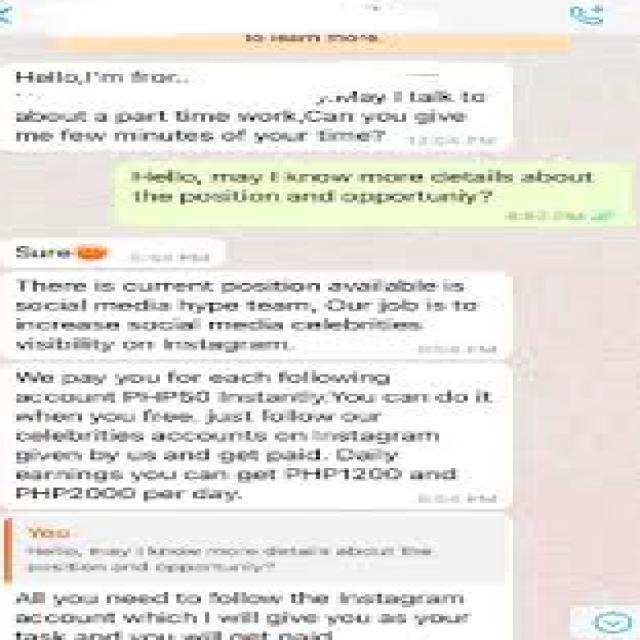scam: (1, 362, 502, 500), (1, 66, 510, 146), (1, 278, 500, 356), (0, 590, 496, 640), (1, 239, 220, 269)
